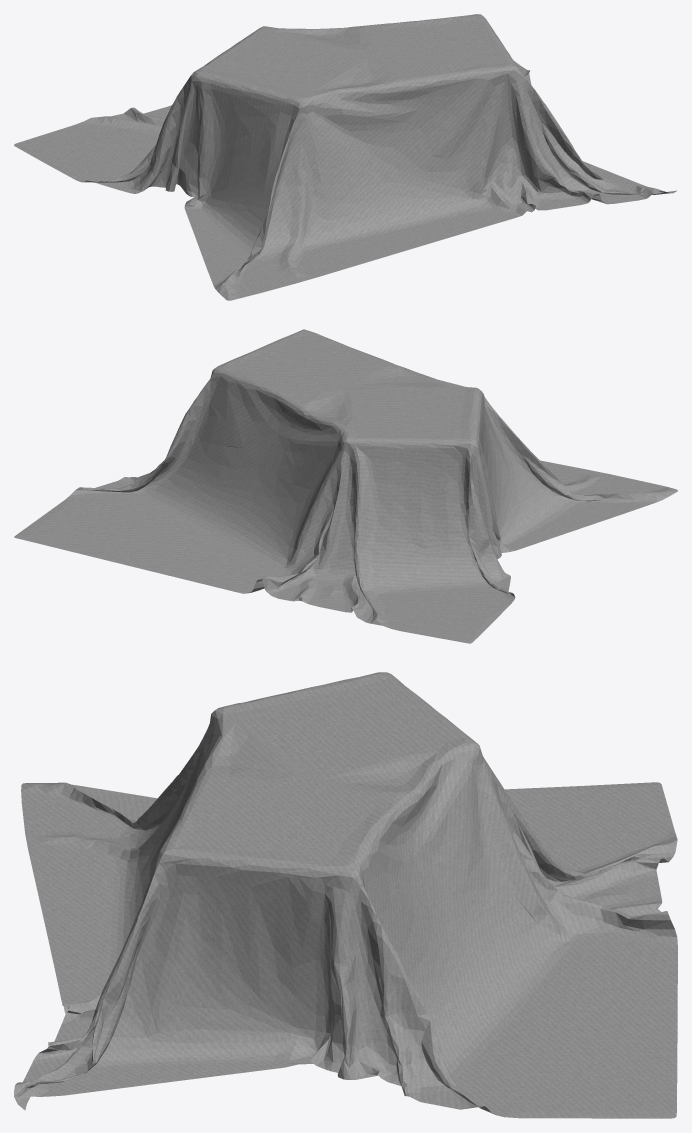
File: Cover3.fbx
3 renders of one model, top to bottom at view 1: azimuth 30°, elevation 25°; view 2: azimuth 150°, elevation 25°; view 3: azimuth 270°, elevation 25°, orthographic. The views are drawn at different scales.
Parts seen in each view (by area): view 1: Plane.023; view 2: Plane.023; view 3: Plane.023.
Part boxes in pixels (<box>): Plane.023: <box>14,14,676,300</box>; Plane.023: <box>14,329,677,643</box>; Plane.023: <box>14,672,677,1118</box>.
Bounding box in the file's own units: 414 × 102 × 345.
Materials: 1 (1 with a texture image).
